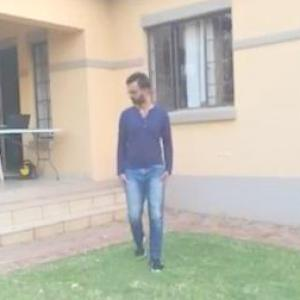follow: (112, 64, 173, 275)
